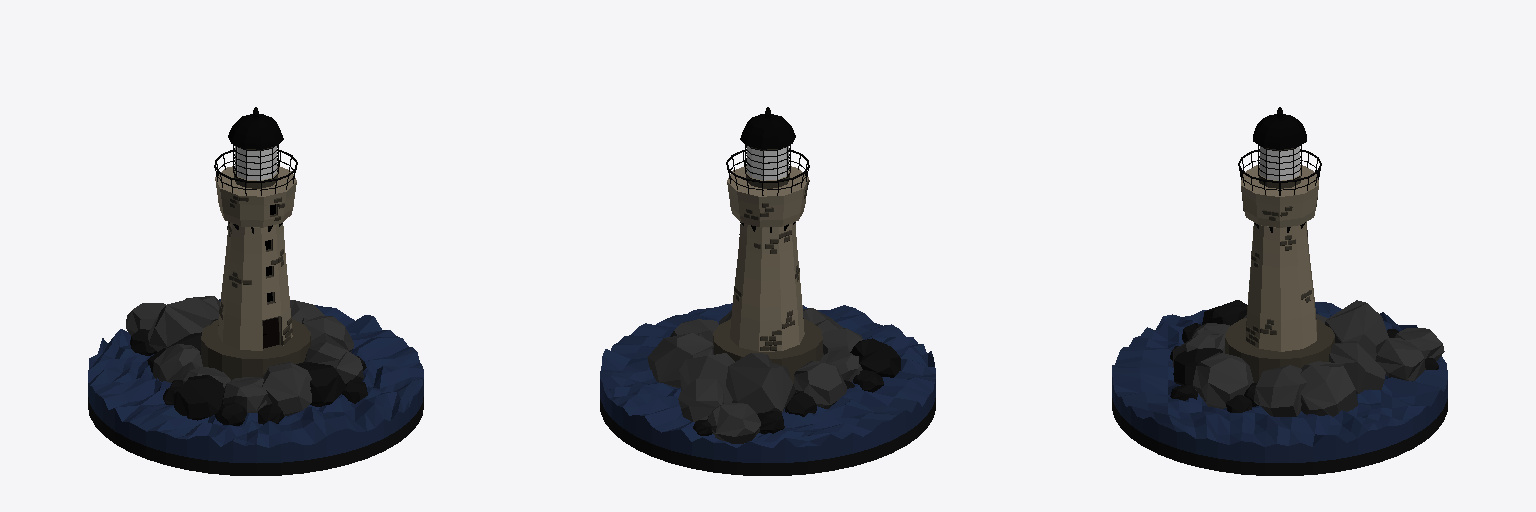
The model's file is Lighthouse.obj.
3 renders of one model, left to right at view 1: azimuth 30°, elevation 25°; view 2: azimuth 150°, elevation 25°; view 3: azimuth 270°, elevation 25°, orthographic.
Parts seen in each view (by area): view 1: Water_Plane, Structure_Circle, Ground_Plane.001, Platform_Cylinder, Stone_8_Cube.052, Stone_22_Cube.053, Stone_19_Cube.049, Stone_6_Cube.036, Stone_3_Cube.032, Stone_1_Cube.031, Stone_18_Cube.048, Stone_17_Cube.047 (+3 smaller); view 2: Water_Plane, Structure_Circle, Ground_Plane.001, Stone_8_Cube.052, Platform_Cylinder, Stone_16_Cube.046, Stone_6_Cube.036, Stone_10_Cube.040, Stone_9_Cube.039, Stone_19_Cube.049, Stone_7_Cube.037, StoneWall_Down_Cube.104 (+5 smaller); view 3: Water_Plane, Structure_Circle, Ground_Plane.001, Platform_Cylinder, Stone_16_Cube.046, Stone_3_Cube.032, Stone_17_Cube.047, Stone_8_Cube.052, Stone_7_Cube.037, Stone_9_Cube.039, Stone_1_Cube.031, Stone_10_Cube.040 (+4 smaller).
Part boxes in pixels (x1,y1,x2,y2): Water_Plane: (88,299,423,462); Structure_Circle: (215,107,296,350); Ground_Plane.001: (88,397,423,475); Platform_Cylinder: (201,319,310,380); Stone_8_Cube.052: (148,297,218,352); Stone_22_Cube.053: (262,362,311,416); Stone_19_Cube.049: (173,375,224,420); Stone_6_Cube.036: (153,344,202,382); Stone_3_Cube.032: (304,342,363,383); Stone_1_Cube.031: (296,362,346,406); Stone_18_Cube.048: (223,377,267,412); Stone_17_Cube.047: (302,316,353,351); Water_Plane: (600,303,935,462); Structure_Circle: (727,107,808,351); Ground_Plane.001: (600,398,935,475); Stone_8_Cube.052: (726,353,795,413); Platform_Cylinder: (713,319,822,383); Stone_16_Cube.046: (647,333,713,387); Stone_6_Cube.036: (794,361,846,408); Stone_10_Cube.040: (708,402,760,443); Stone_9_Cube.039: (678,379,732,421); Stone_19_Cube.049: (850,338,900,377); Stone_7_Cube.037: (679,353,734,390); StoneWall_Down_Cube.104: (734,230,799,350); Water_Plane: (1112,302,1447,462); Structure_Circle: (1241,107,1318,351); Ground_Plane.001: (1112,398,1447,475); Platform_Cylinder: (1225,318,1334,382); Stone_16_Cube.046: (1300,361,1357,416); Stone_3_Cube.032: (1193,352,1253,408); Stone_17_Cube.047: (1254,365,1307,416); Stone_8_Cube.052: (1325,300,1388,359); Stone_7_Cube.037: (1329,341,1385,393); Stone_9_Cube.039: (1375,338,1425,381); Stone_1_Cube.031: (1173,348,1222,384); Stone_10_Cube.040: (1394,328,1444,360).
Size of the model in its own units: 10.21 by 10 by 10.21.